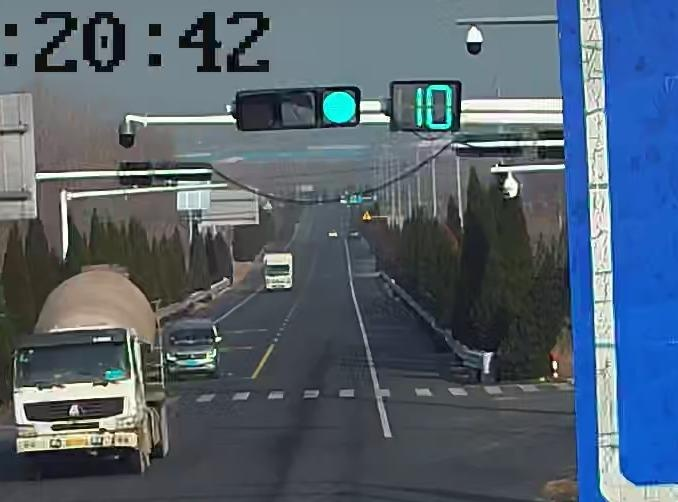green: (321, 89, 359, 127)
greentime: (410, 80, 459, 131)
